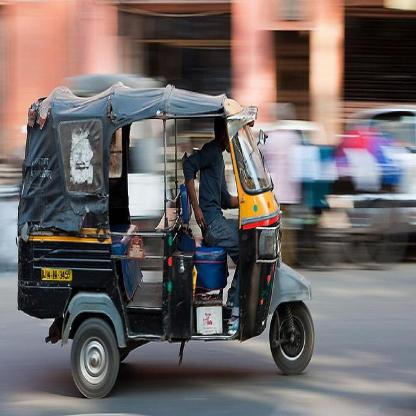auto-rikshaw: (15, 82, 315, 397)
